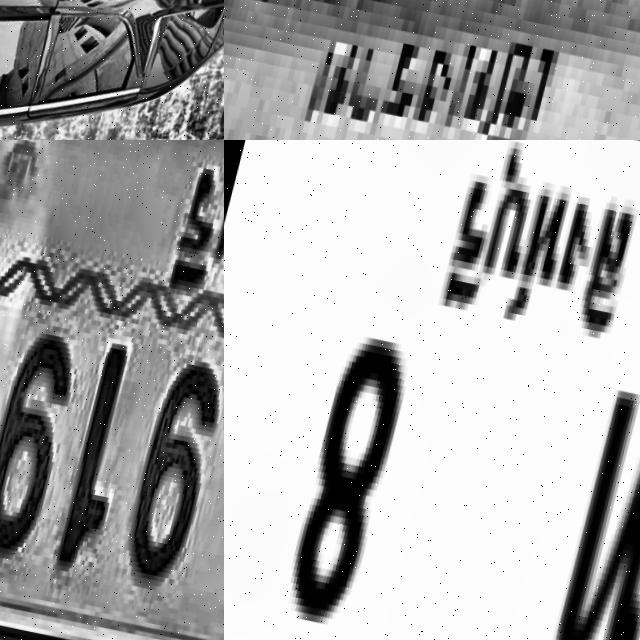license-plate: (224, 140, 640, 640), (0, 140, 224, 640), (224, 0, 640, 140)
